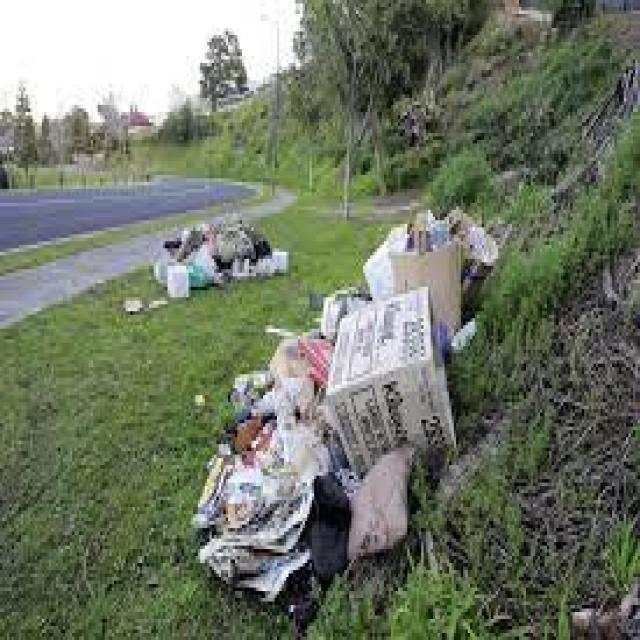dumping: (197, 197, 504, 596), (142, 202, 302, 315)
